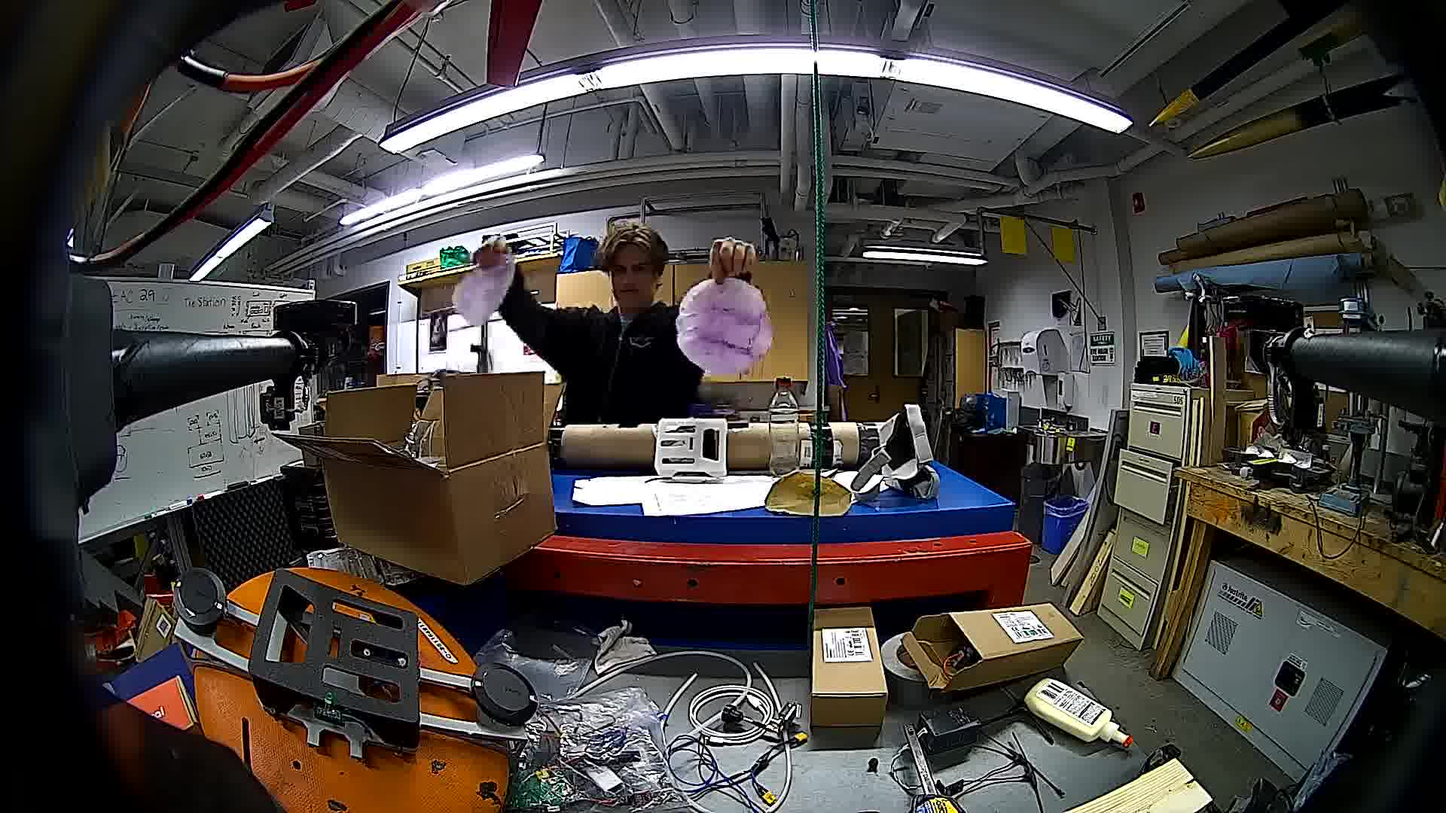Target: (676, 277, 773, 373), (451, 256, 515, 327)
